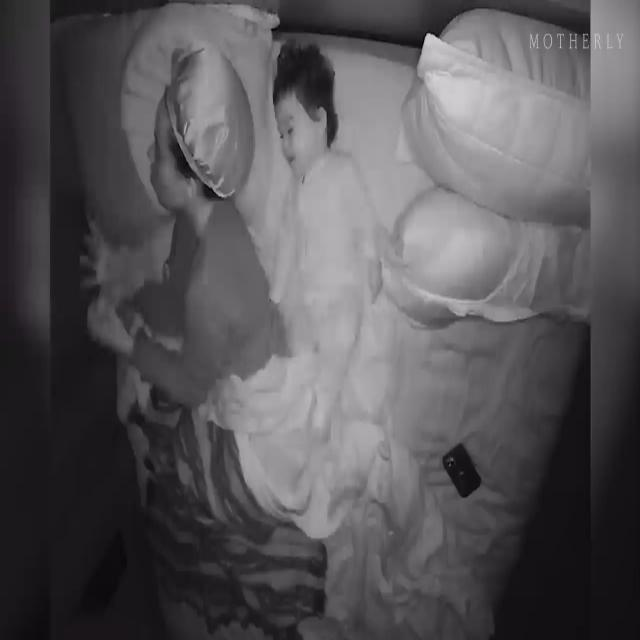baby: (270, 36, 381, 435)
